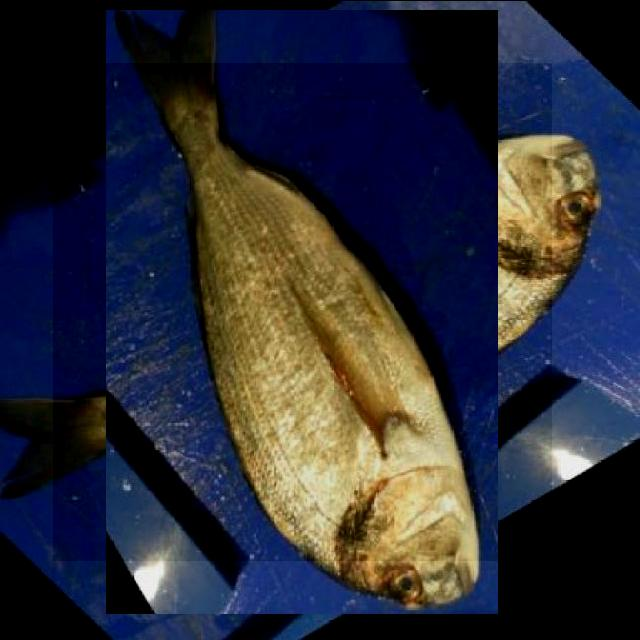Healthy Fish: (53, 62, 552, 560)
